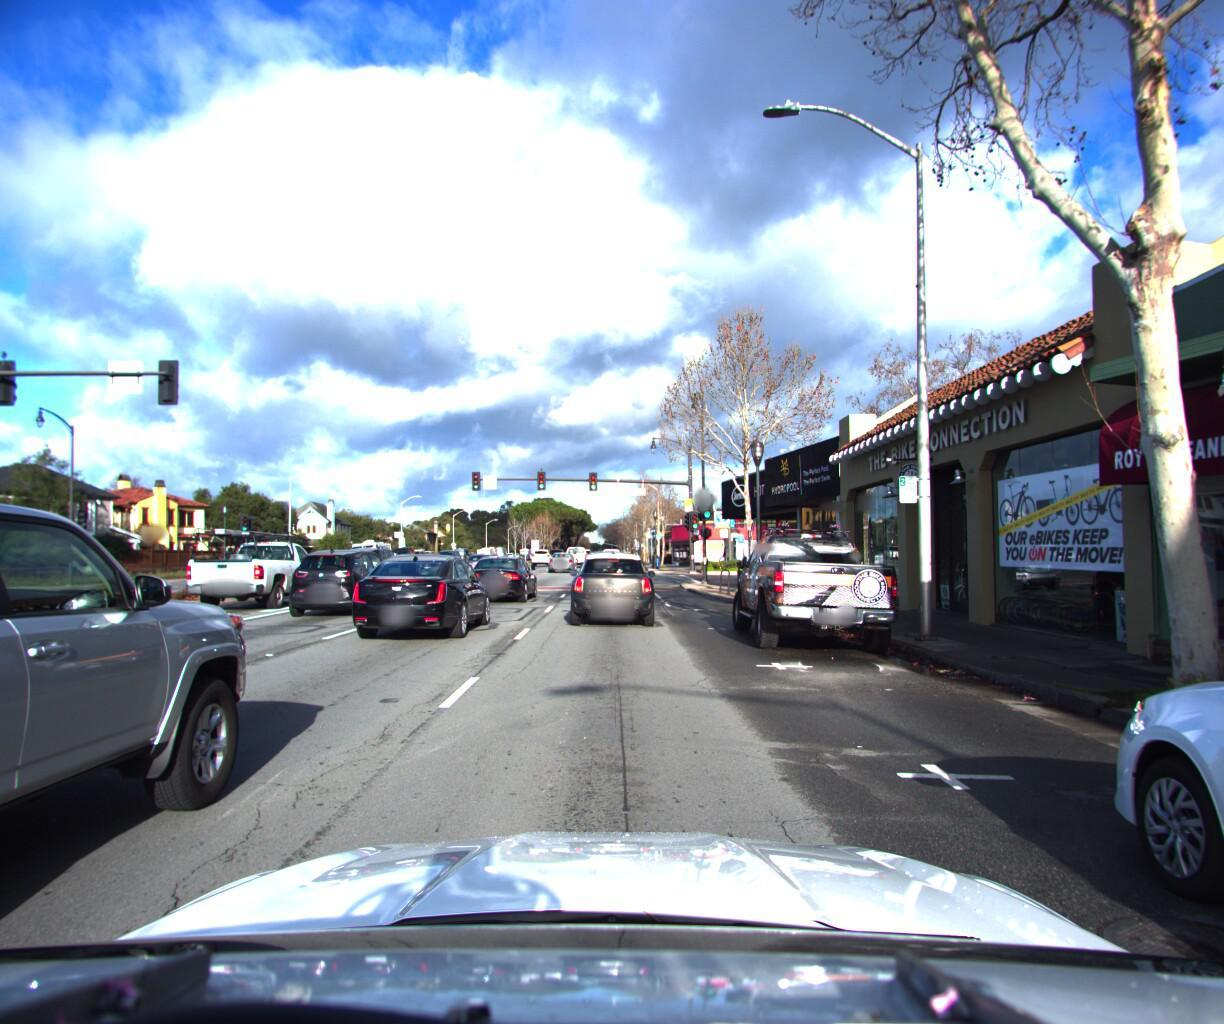car: (0, 395, 277, 1024), (1044, 558, 1224, 1024), (722, 510, 920, 657), (174, 518, 338, 612), (335, 555, 492, 645), (279, 541, 404, 615), (565, 548, 656, 626), (464, 552, 541, 601), (329, 543, 406, 590), (578, 546, 633, 592), (466, 547, 514, 578), (545, 544, 578, 567), (561, 539, 588, 562), (600, 543, 620, 566), (529, 543, 552, 560)
